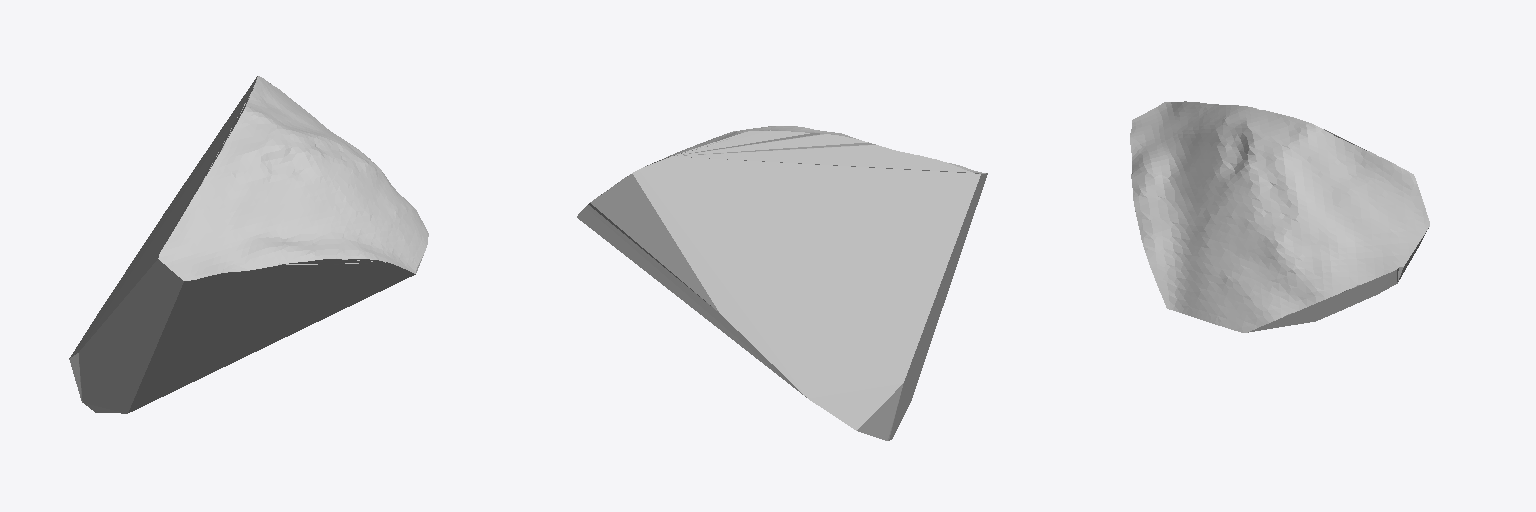
Rendered from low_cell_041.obj.
3 views of the same model, side by side, from view 1: azimuth 30°, elevation 25°; view 2: azimuth 150°, elevation 25°; view 3: azimuth 270°, elevation 25° (orthographic).
Visible parts, largest first — view 1: low_cell.041_low_cell.040; view 2: low_cell.041_low_cell.040; view 3: low_cell.041_low_cell.040.
Boxes of the visible parts, box(x1,y1,x2,y2) form: low_cell.041_low_cell.040: box(69, 76, 428, 413); low_cell.041_low_cell.040: box(577, 126, 987, 440); low_cell.041_low_cell.040: box(1130, 101, 1429, 332).
Size of the model in its own units: 0.8241 by 0.6789 by 0.6847.